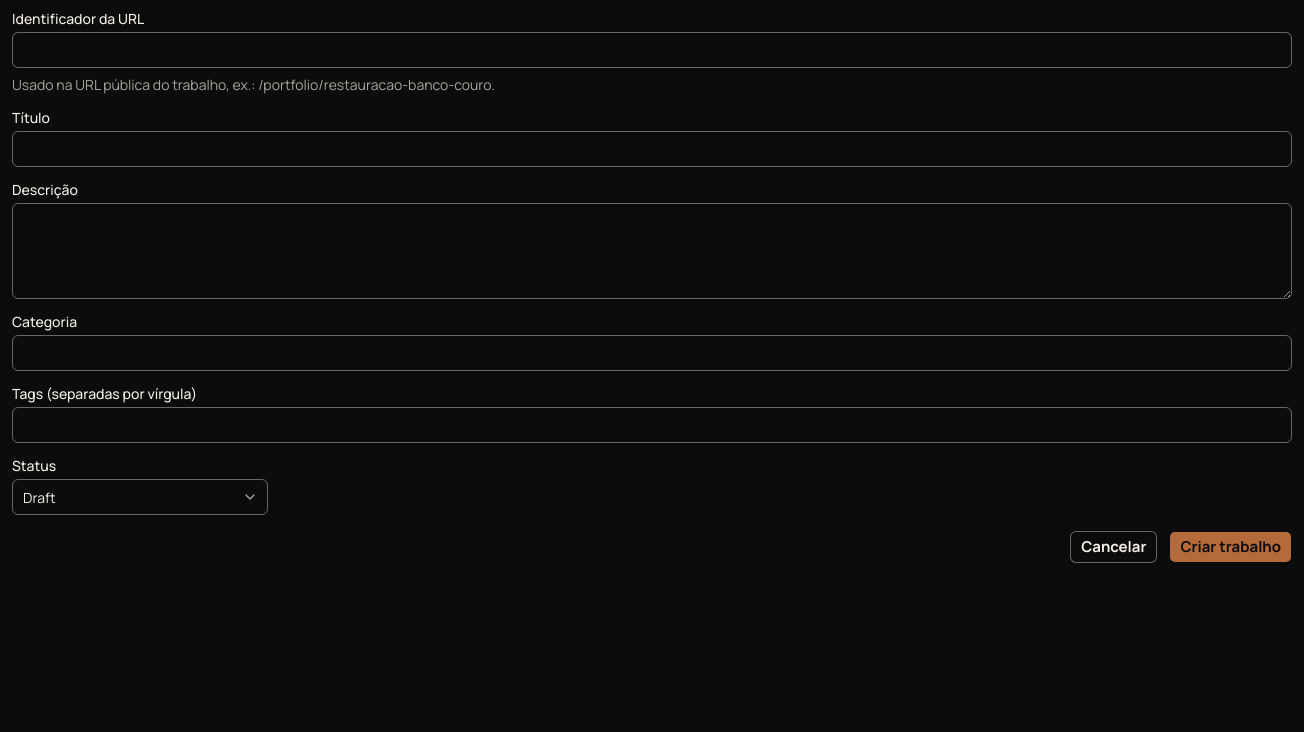
Test: CreateWorkForm › preserva aria-invalid/aria-describedby da Textarea quando a descrição é inválida
Step 1. Click the button "Criar trabalho" → click(1231, 547), box [1169,531,1292,563]
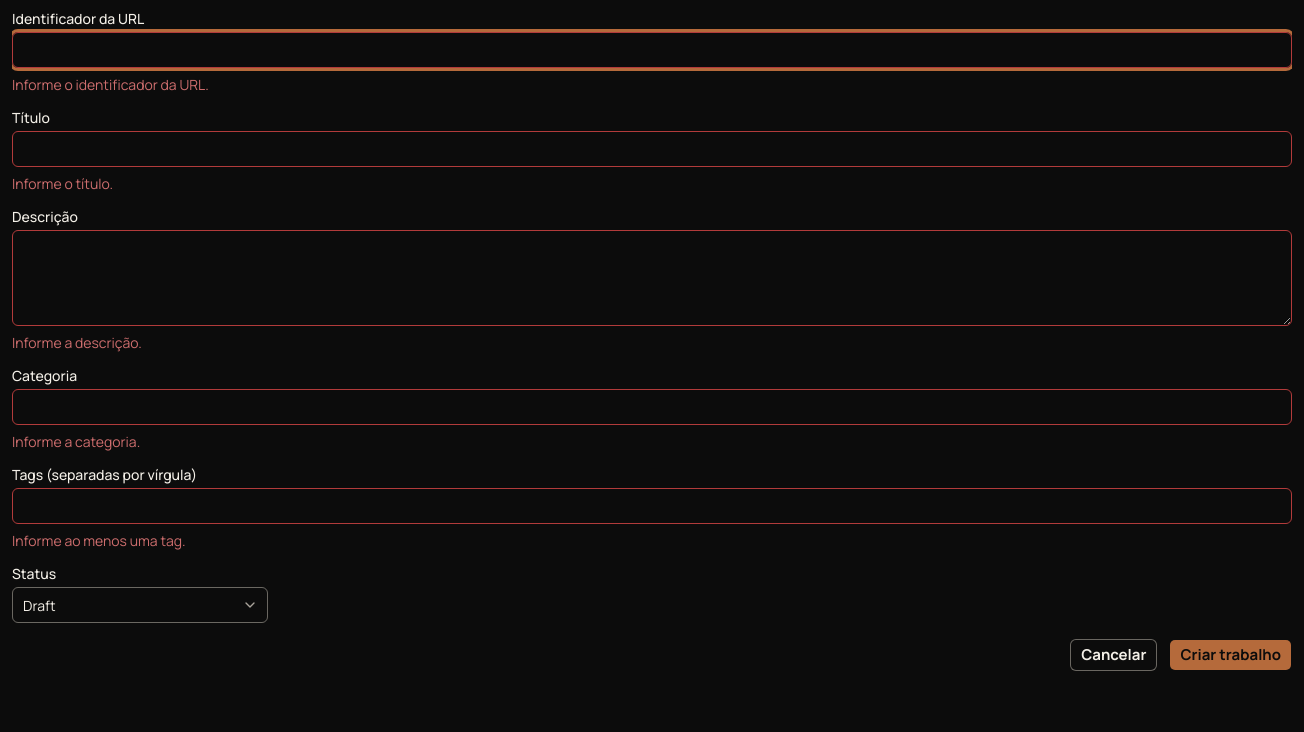
Check: the text "Informe a descrição." is shown, box [12,333,142,352]
